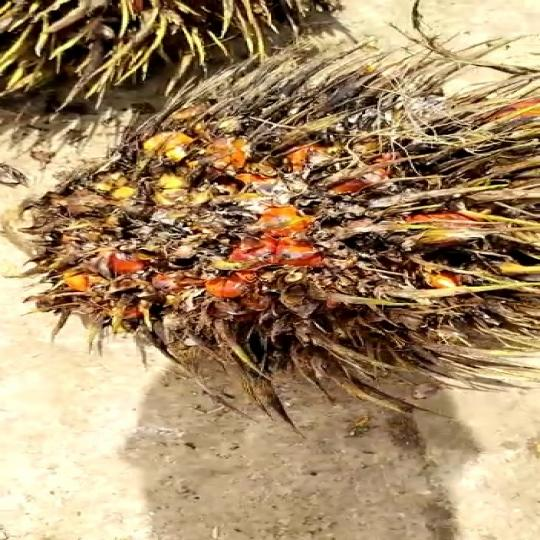terlalu masak: (31, 32, 540, 424)
